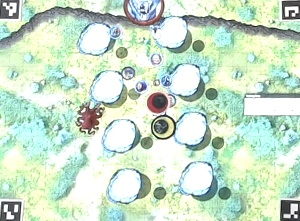giant_red_octopus: (75, 107, 98, 130)
lime_green_violet: (151, 115, 174, 138)
red: (146, 90, 169, 112)
